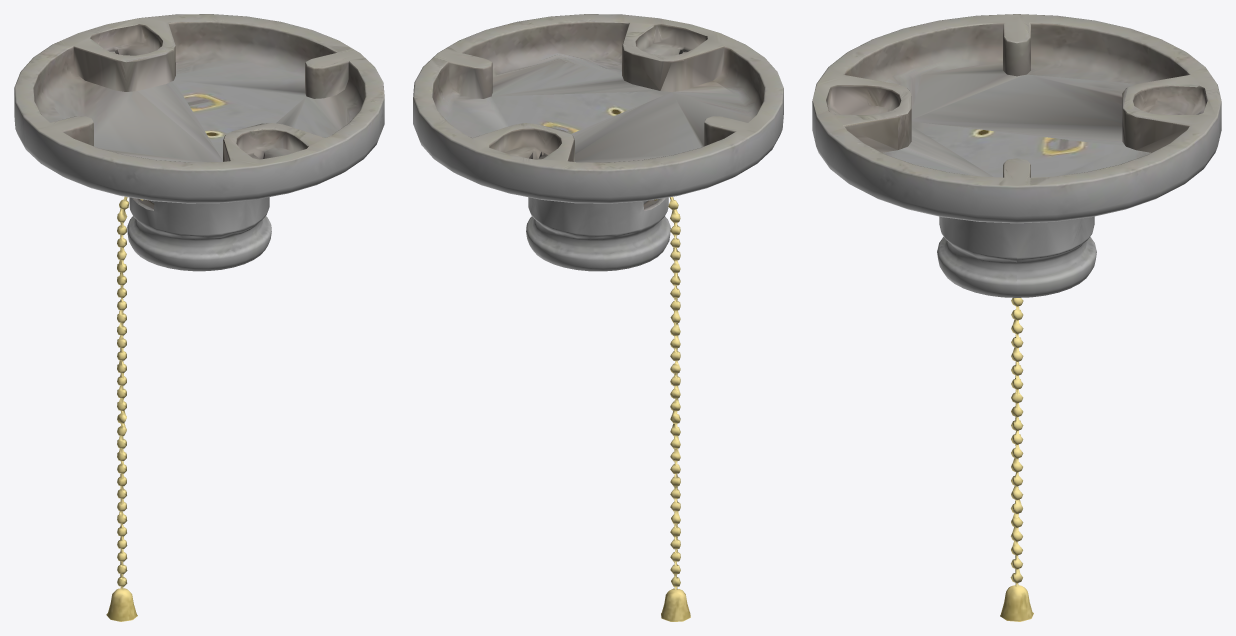
File: pull-chain-light-socket.glb
The picture shows the model from 3 angles, left to right: view 1: azimuth 30°, elevation 25°; view 2: azimuth 150°, elevation 25°; view 3: azimuth 270°, elevation 25°; orthographic projection. The views are drawn at different scales.
Parts seen in each view (by area): view 1: pull_chain_light_socket; view 2: pull_chain_light_socket; view 3: pull_chain_light_socket.
Boxes of the visible parts, left/top/right/bottom form: pull_chain_light_socket: left=14, top=14, right=384, bottom=621; pull_chain_light_socket: left=413, top=14, right=783, bottom=621; pull_chain_light_socket: left=812, top=14, right=1221, bottom=621.
Bounding box in the file's own units: 0.1103 × 0.1654 × 0.1103.
Materials: 1 (1 with a texture image).
